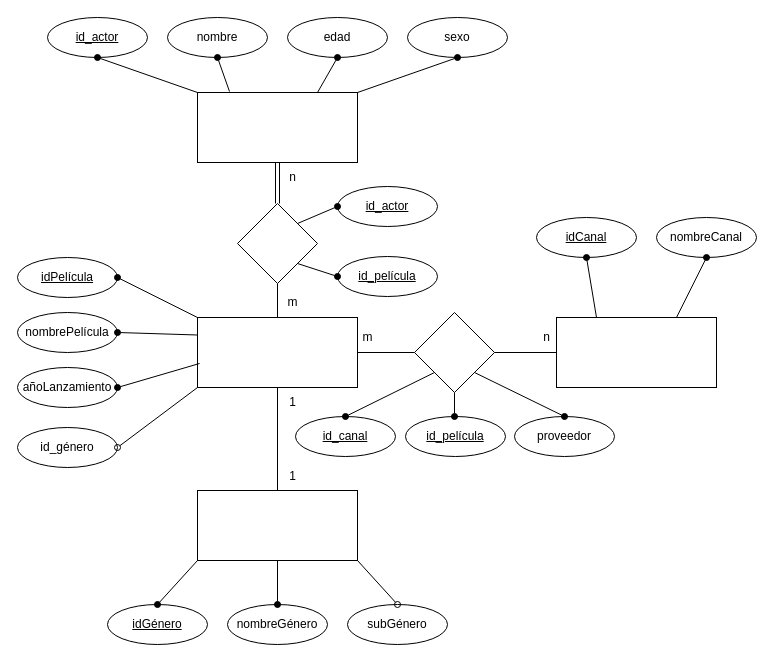
The diagram is 774 pixels wide and 662 high, and some of its shapes have lost their labels. The shapes that lost their labels are listed below. From the top down, each one's centre as x and y in pixels, then its label:
the point at 277,127: Actor
the point at 277,243: Participa
the point at 277,352: Película
the point at 454,352: Transmite
the point at 636,352: Canal
the point at 277,525: Género
